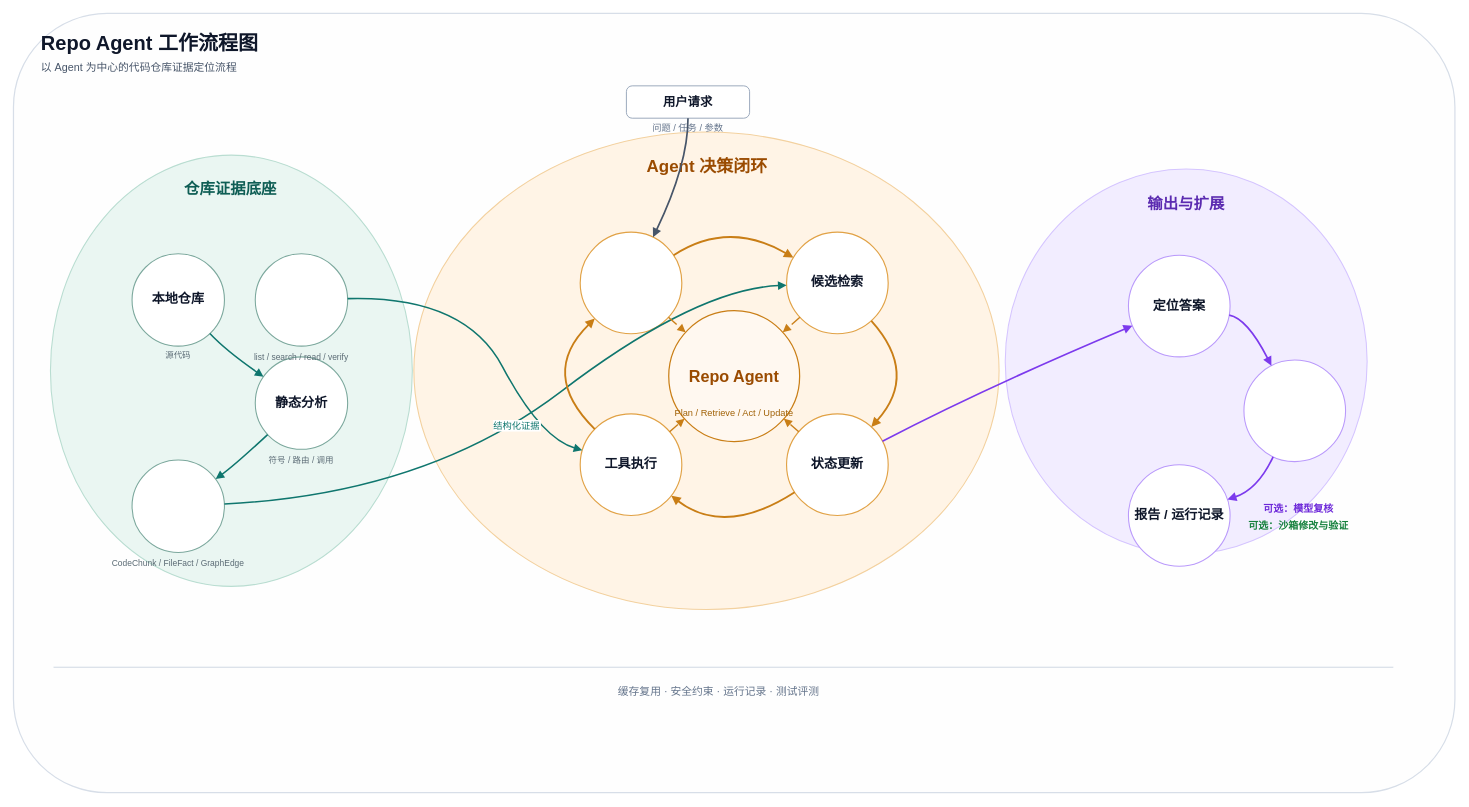
Some shapes in this 1469 by 807 pixel diagram are drawn without their labels. The centre of each missing label's shape, as x and y in pixels:
任务规划: [630,282]
工具集: [301,299]
索引关系图: [178,506]
证据 Trace: [1294,410]
